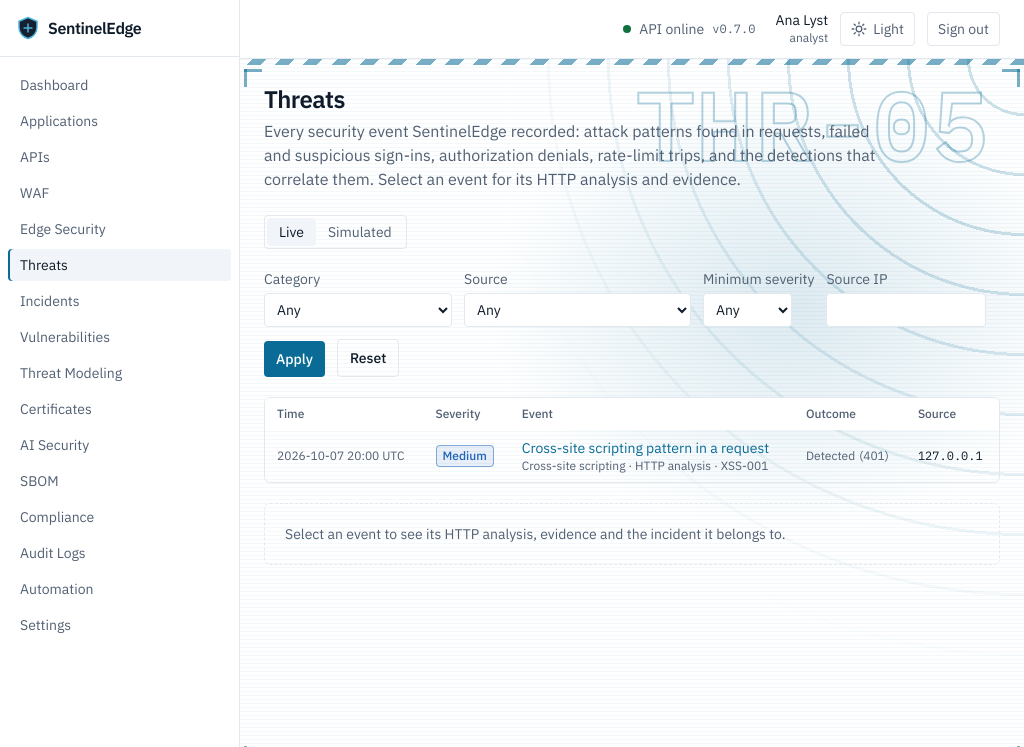
Test case: threats › opens an incident from an event and goes to it
Click the button "Cross-site scripting pattern in a request".
click(646, 448)  # box [522, 438, 769, 458]
(page scrolled)
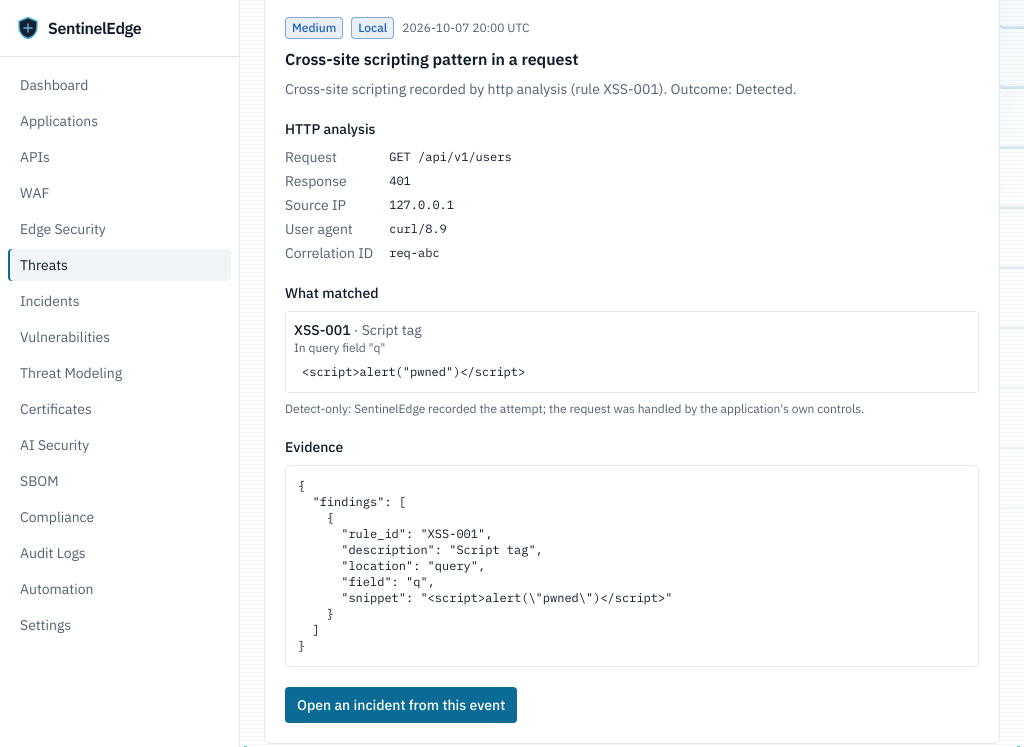
Click the button "Open an incident from this event".
click(401, 705)  # box [285, 687, 517, 723]
(page scrolled)
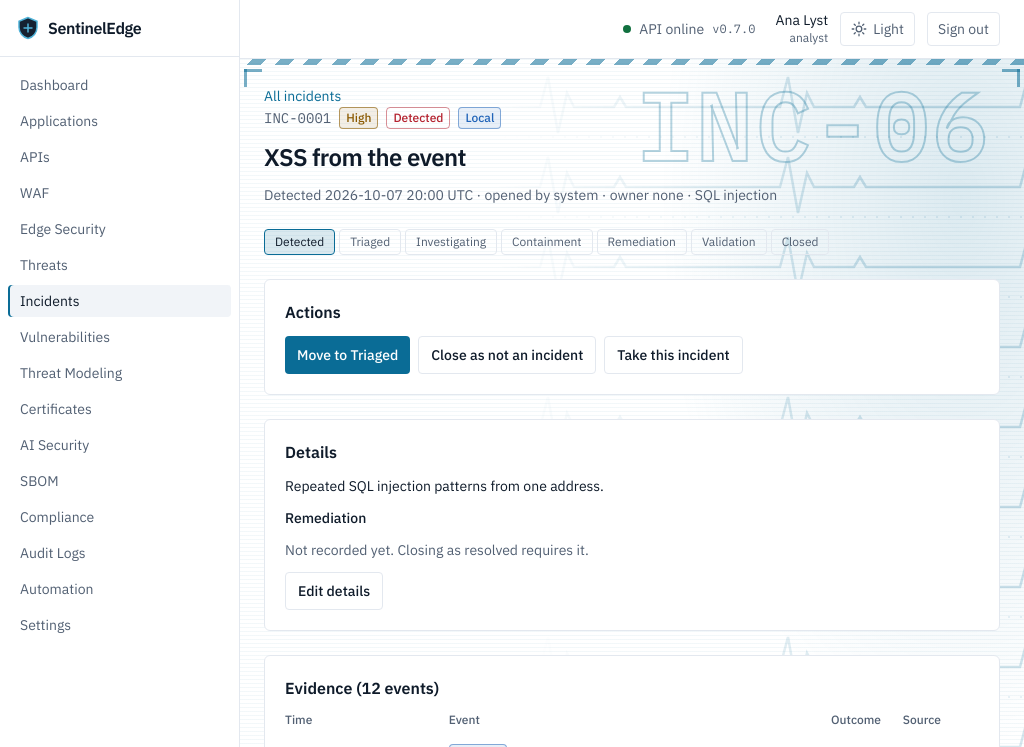
Result: the heading "XSS from the event" is shown at [264, 141, 466, 173]
